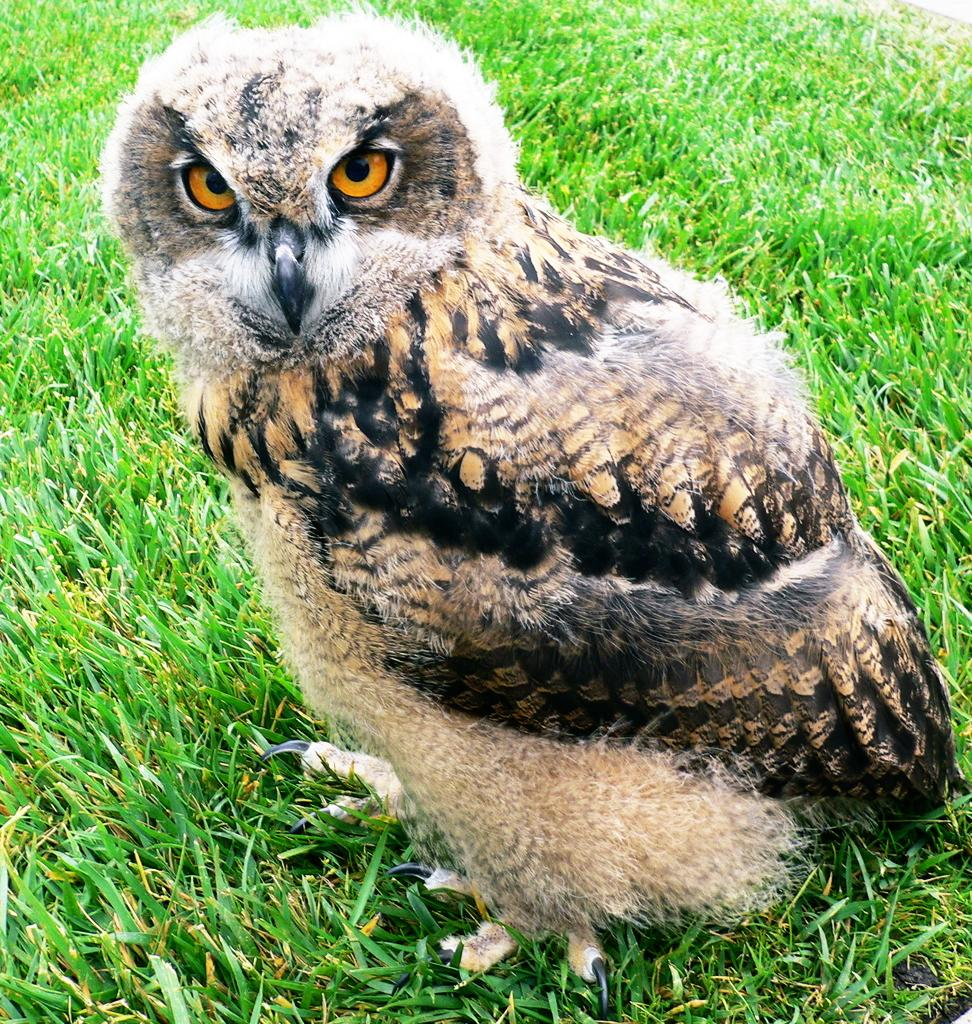Owl: (97, 0, 972, 1020)
